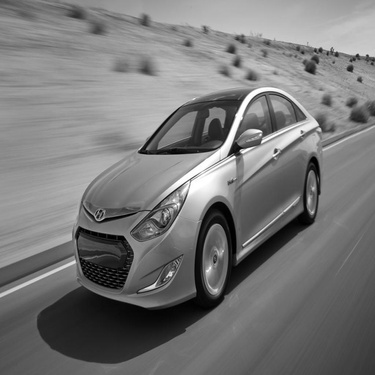car: (63, 79, 327, 318)
